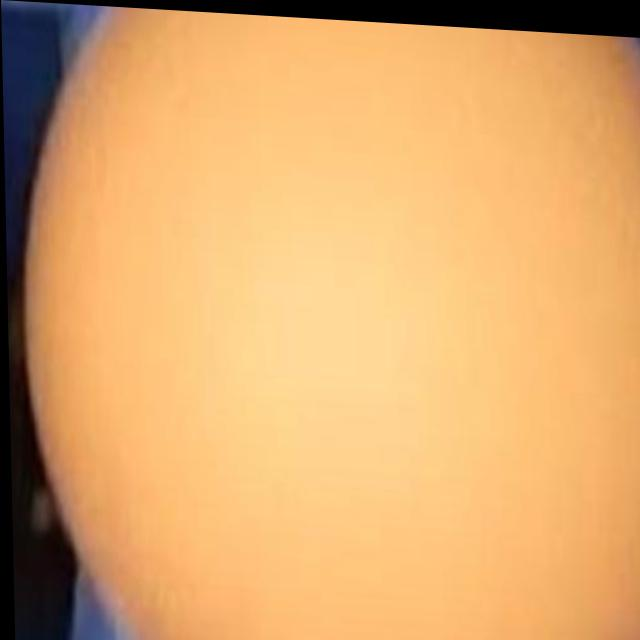fresh: (14, 1, 640, 640)
